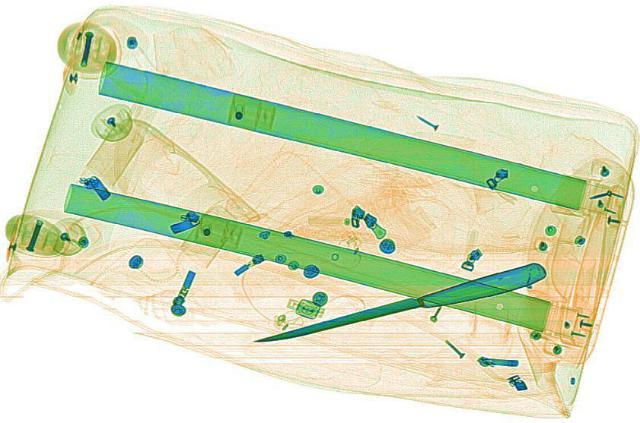Knife: (248, 260, 552, 351)
